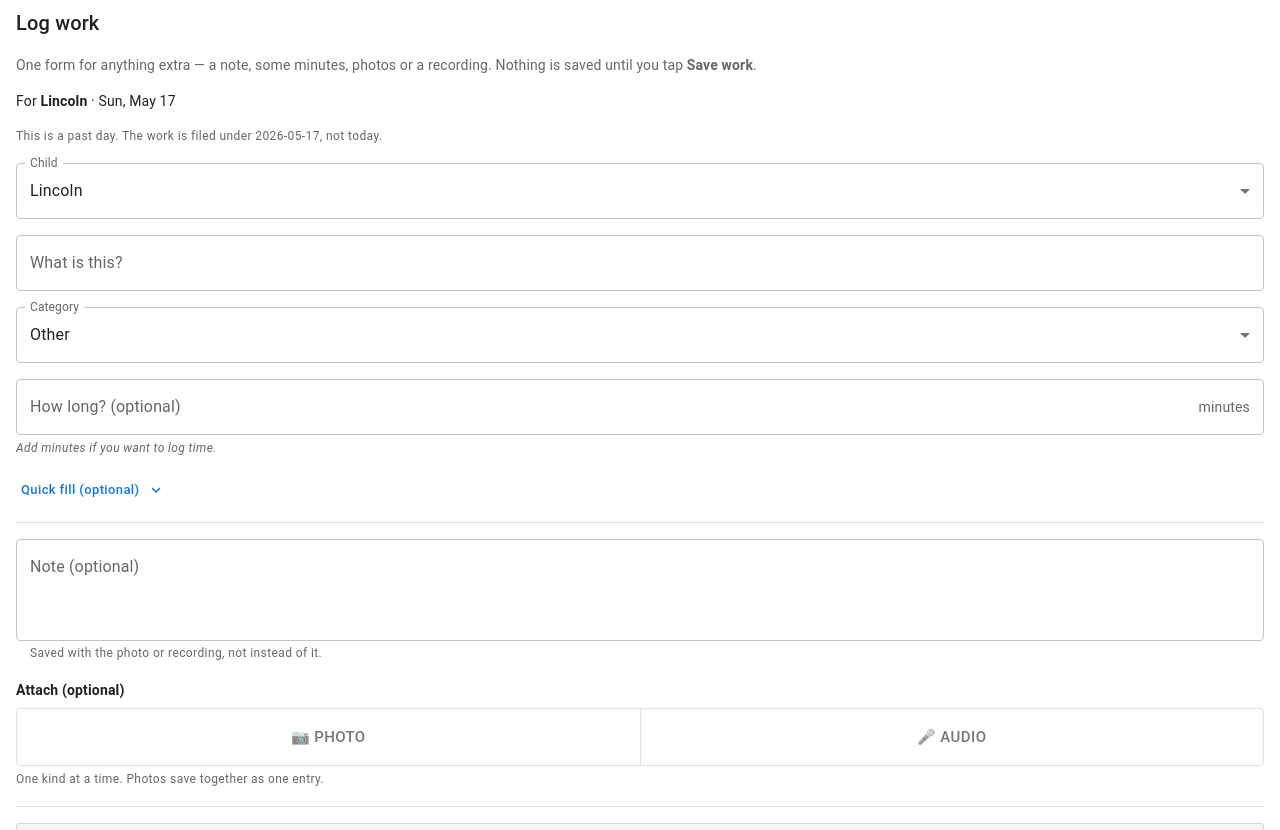
Test: Log work — a pending save takes one tap (FIX-262) › says it is saving, and a tap on the pending button does nothing
The image size is (1280, 830).
Click the button "Quick fill (optional)": (92, 490) [16,475,168,506]
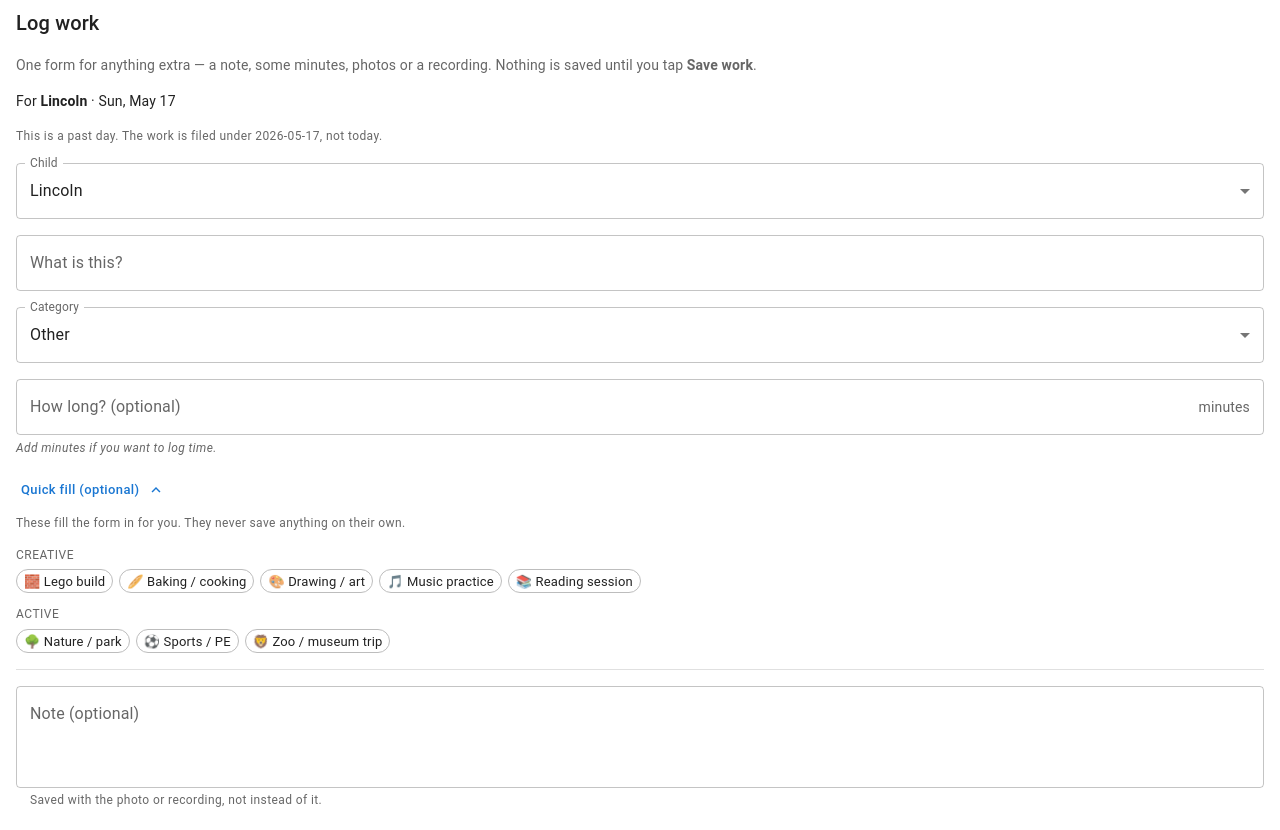
Click the button "🦁 Zoo / museum trip": (318, 641) [245,629,390,653]
(page scrolled)
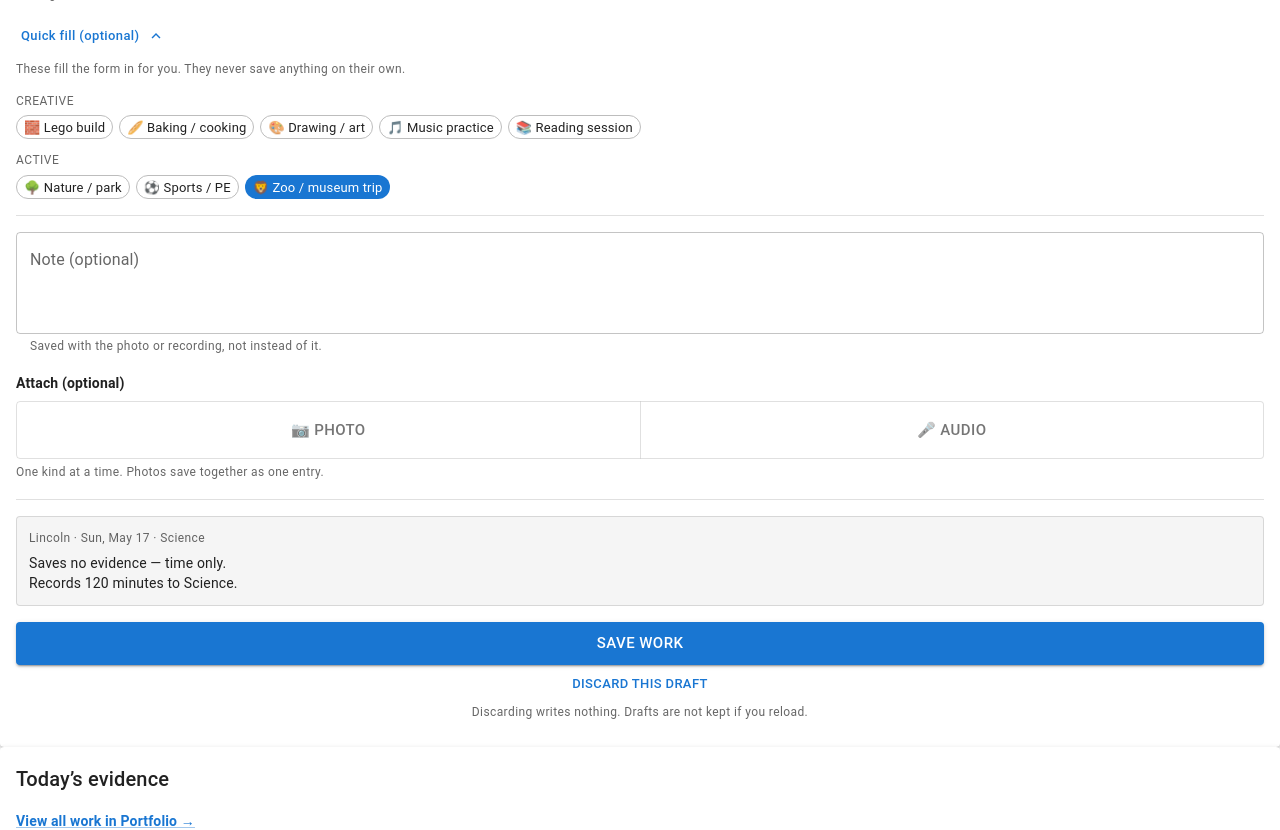
Click the button "Save work": (640, 643) [16,622,1264,665]
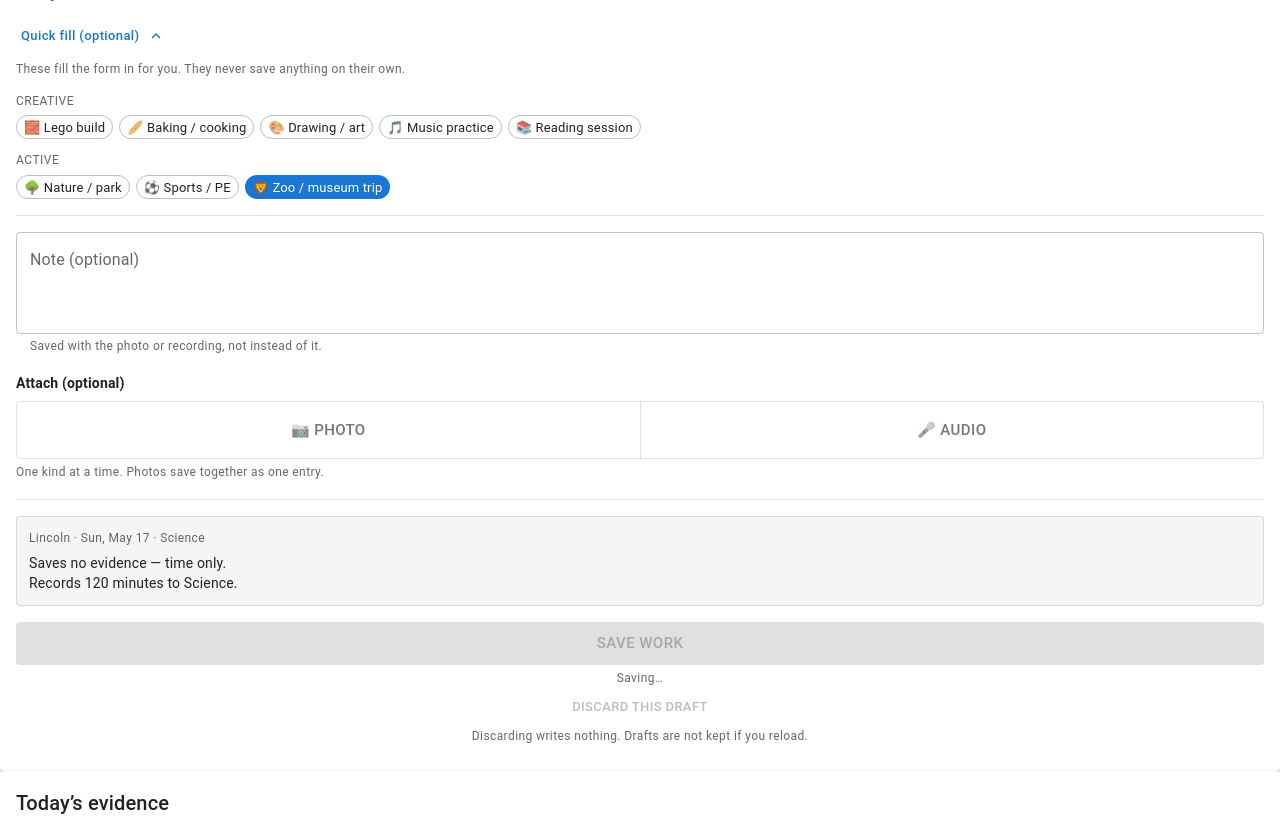
Expected: the button "Save work" is disabled
Expected: the text "Saving…" is shown, [617,671,663,685]
Click the button "Save work": (640, 643) [16,622,1264,665]
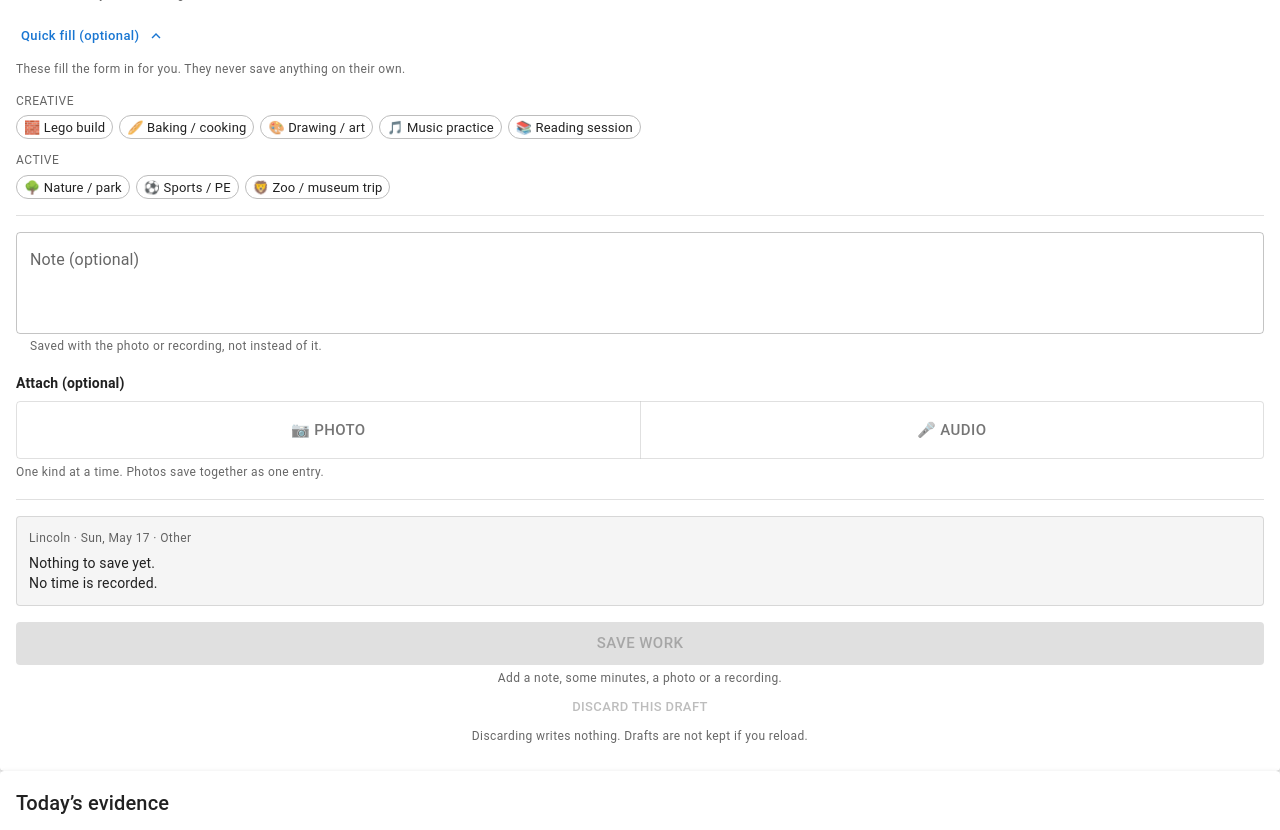
Expected: the text "Saving…" is gone
